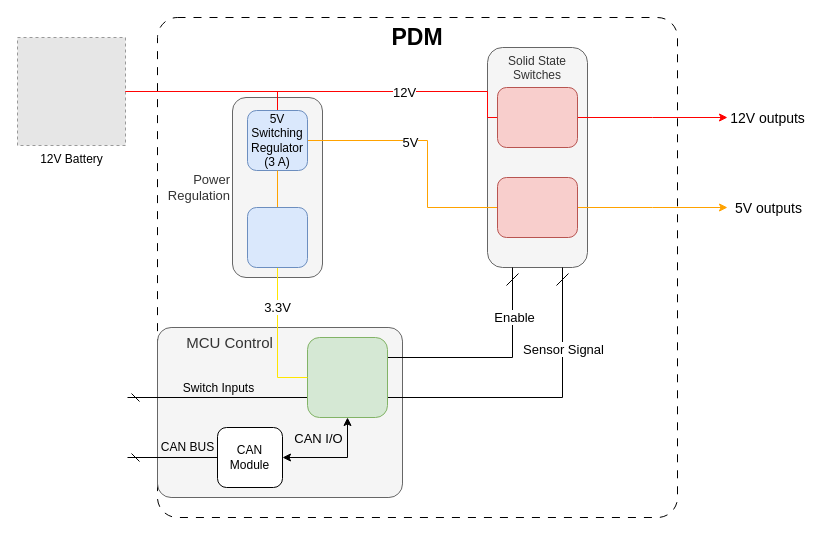
This 822x535 diagram has some shape labels left out. Grey dashed boxes stand in for pictures. Each missing label, with the centre of its shape:
"12V High Current (80A) x12" goes at point (537, 117).
"3.3V Linear Regulator (1 A)" goes at point (277, 237).
"5V Low Current (3A) x2" goes at point (537, 207).
"STM32 MCU" goes at point (347, 377).
